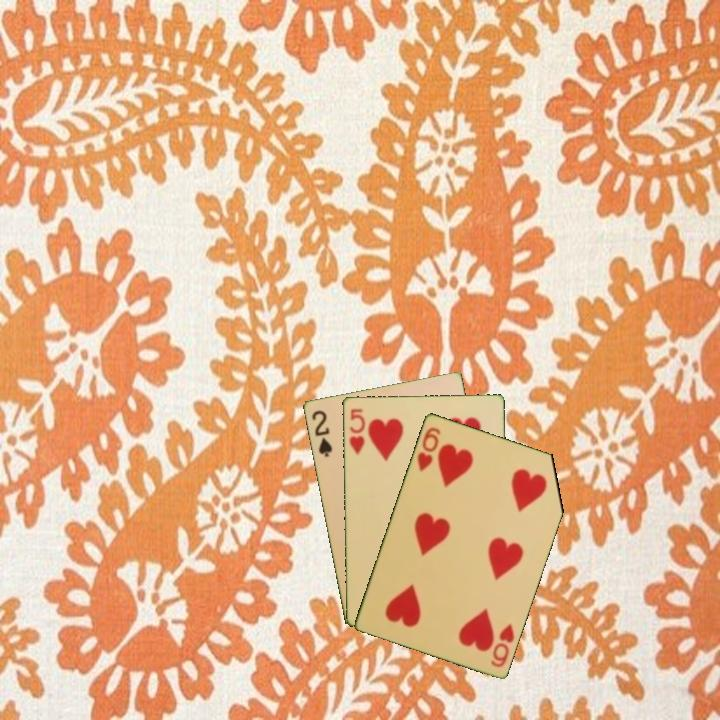2s: (308, 406, 335, 460)
5h: (345, 405, 368, 457)
6h: (413, 423, 443, 474), (487, 619, 517, 670)
